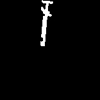double_crochet: (41, 0, 52, 45)
